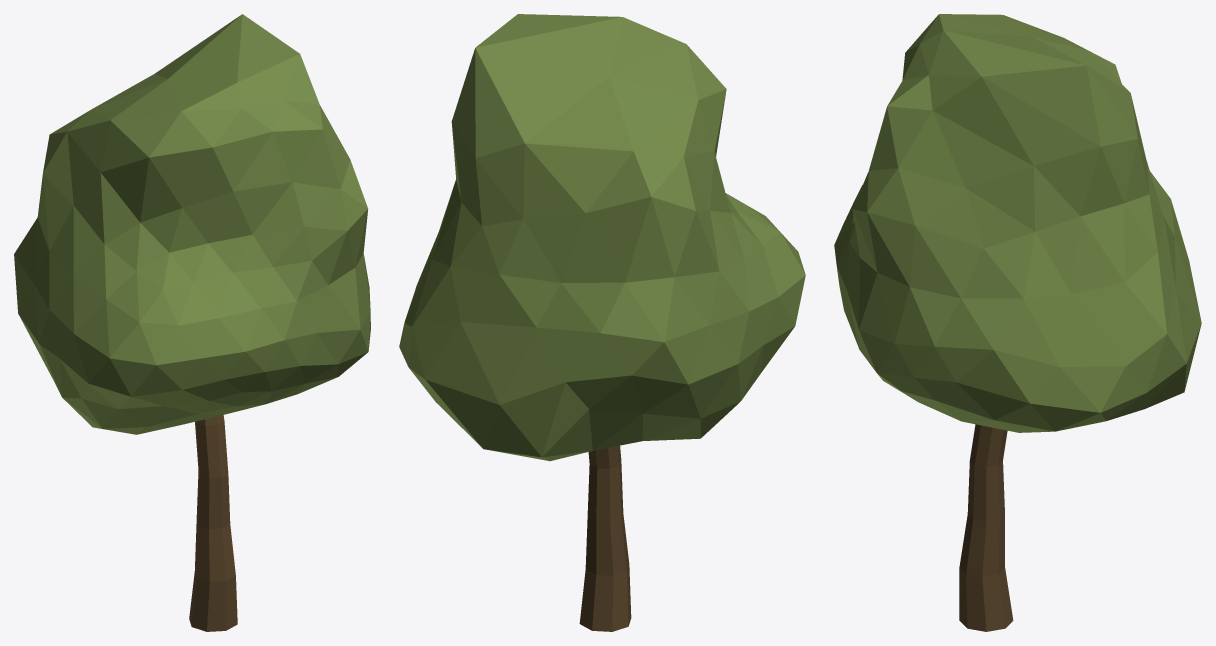
Rendered from tree4.fbx.
The picture shows the model from 3 angles, left to right: view 1: azimuth 30°, elevation 25°; view 2: azimuth 150°, elevation 25°; view 3: azimuth 270°, elevation 25°; orthographic projection. The views are drawn at different scales.
Visible parts, largest first — view 1: tree4; view 2: tree4; view 3: tree4.
Boxes of the visible parts, x1=… form: tree4: x1=14, y1=14, x2=370, y2=631; tree4: x1=399, y1=14, x2=805, y2=631; tree4: x1=834, y1=14, x2=1201, y2=631.
Bounding box in the file's own units: 91.03 × 158 × 88.63.
